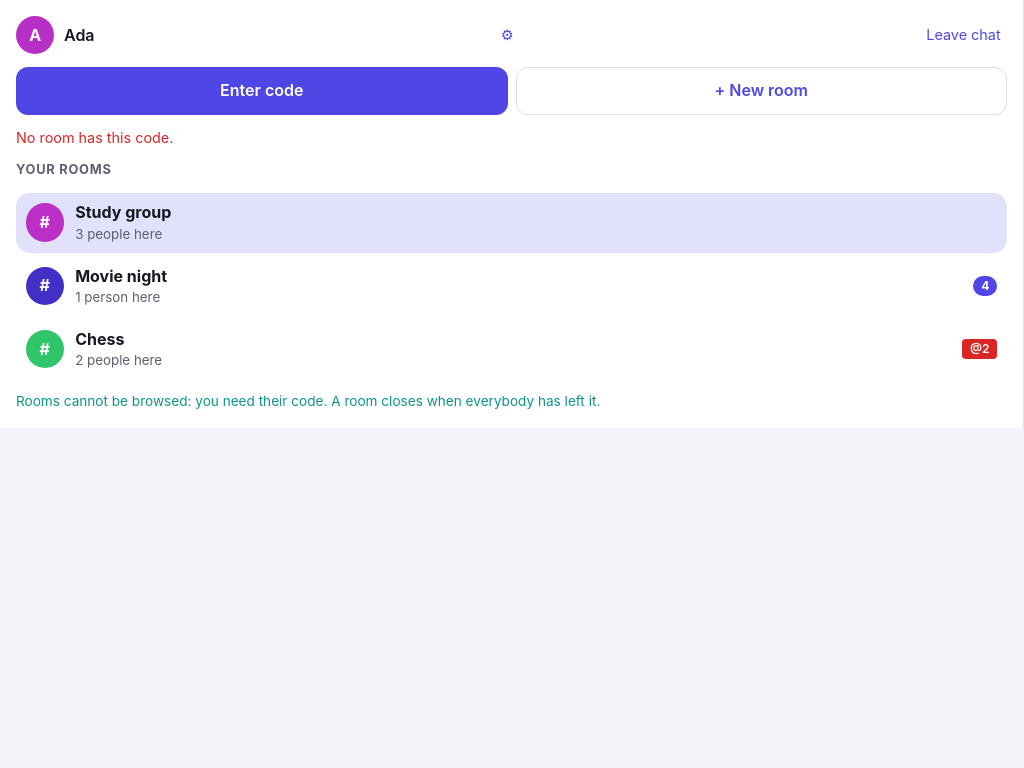
Test: RoomList › does not submit an empty form, and shows an error
Step 1. Click the button "Enter code" → click(262, 91), box [16,67,508,115]
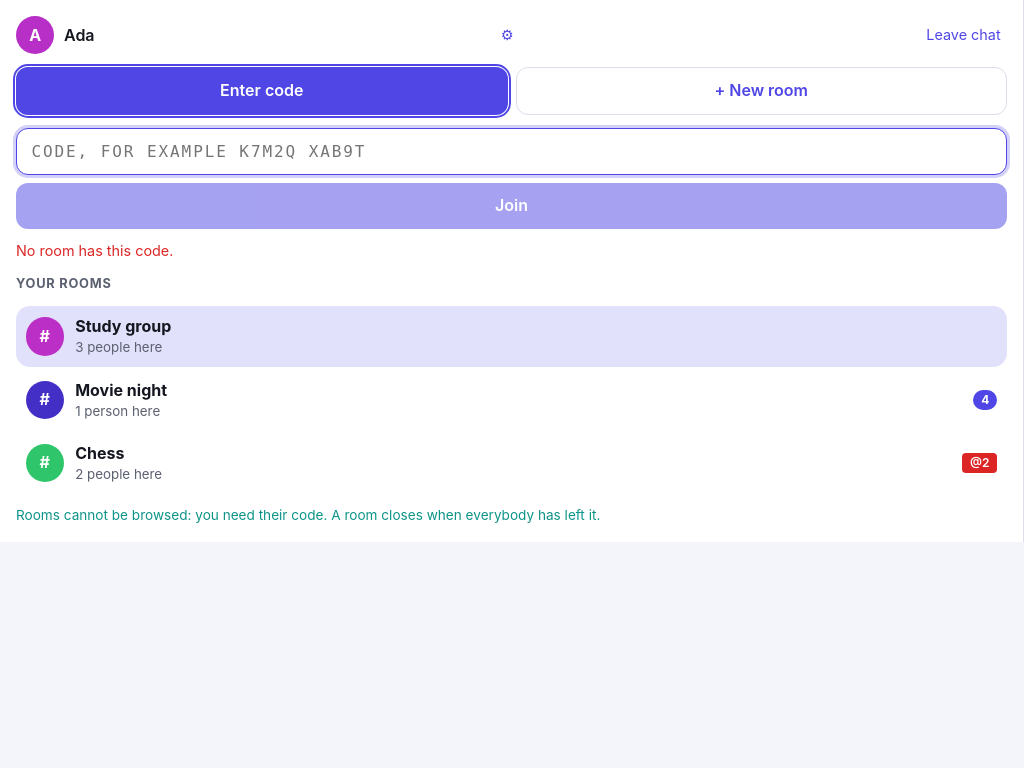
Check: the message "No room has this code." is shown, box [16,242,173,260]
Check: the button "Join" is disabled, box [16,183,1007,229]
